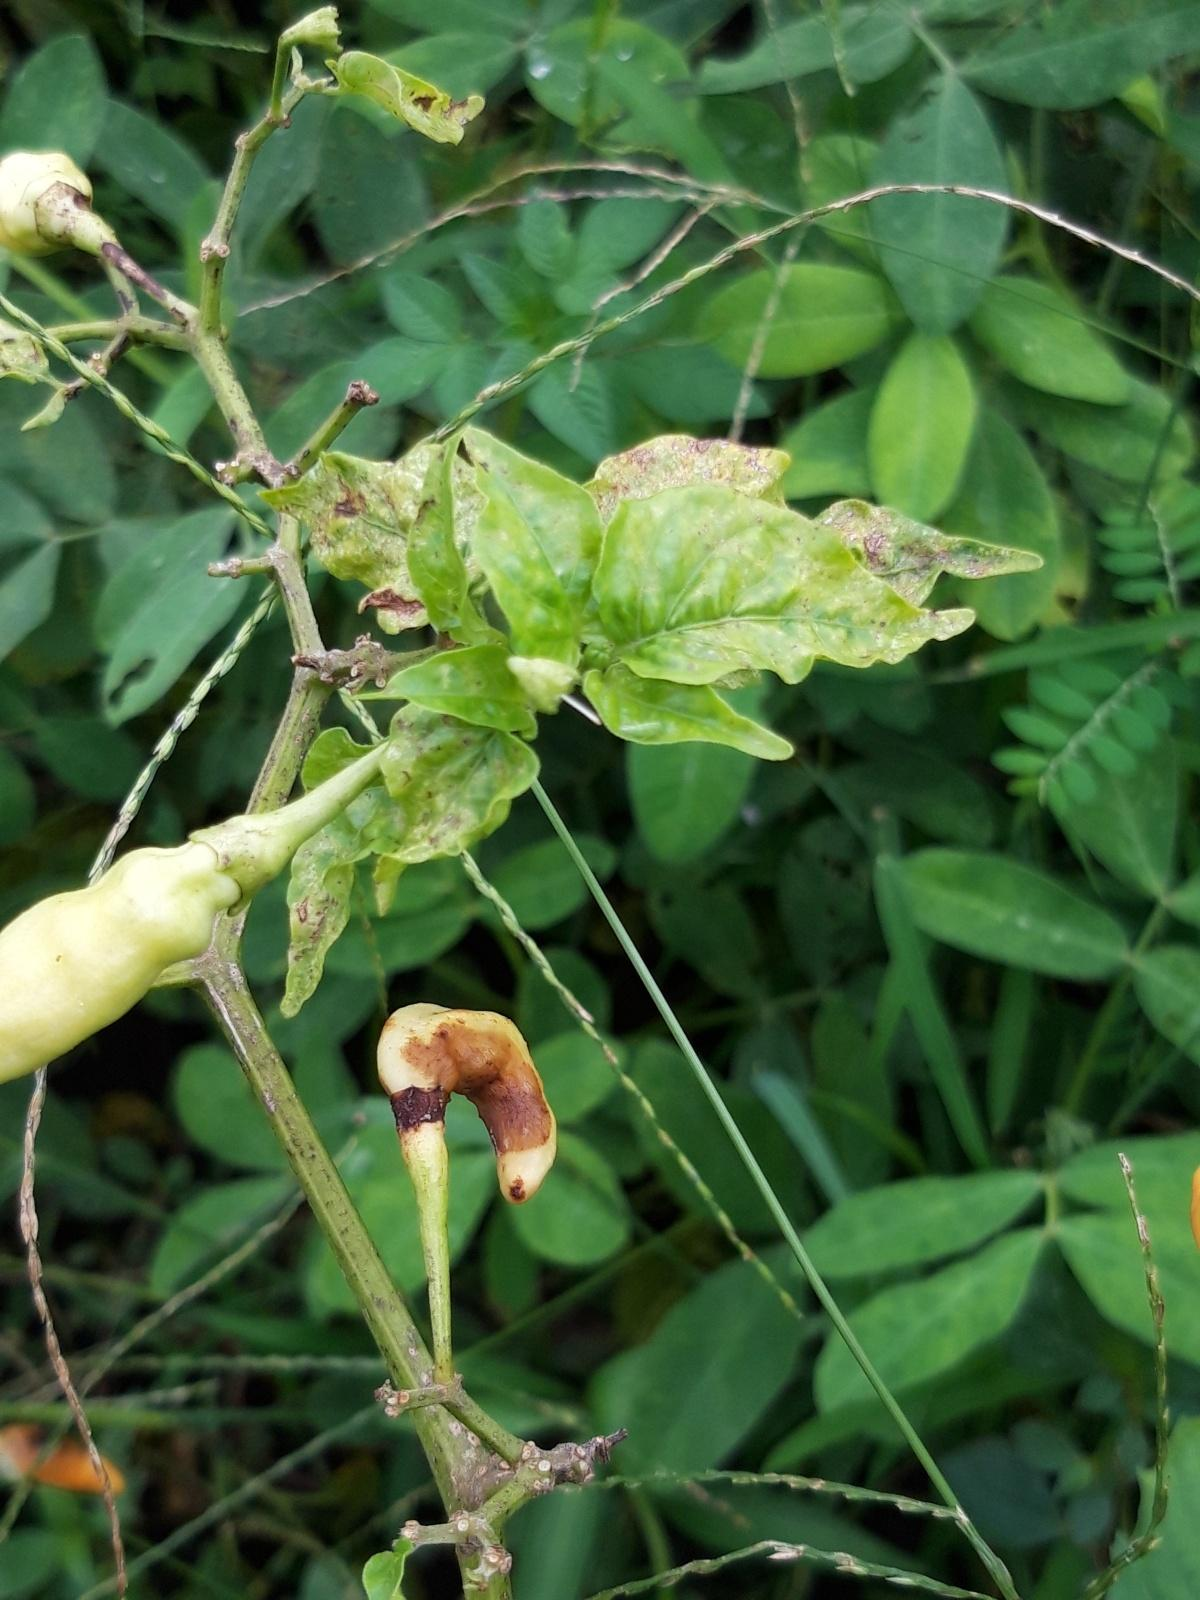lalat_buah: (379, 999, 558, 1204)
